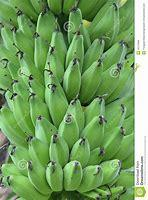banana: (0, 0, 129, 200)
